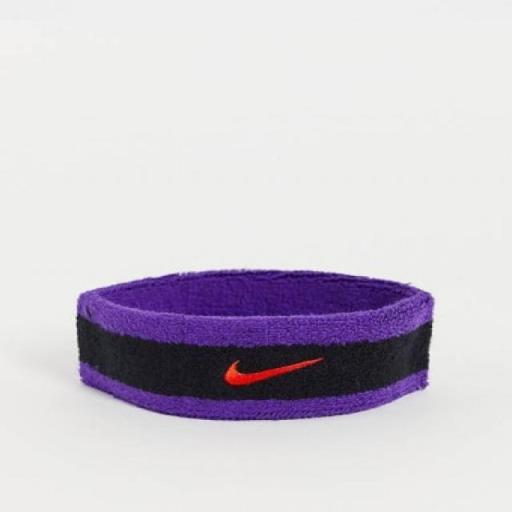Nike: (210, 350, 334, 388)
